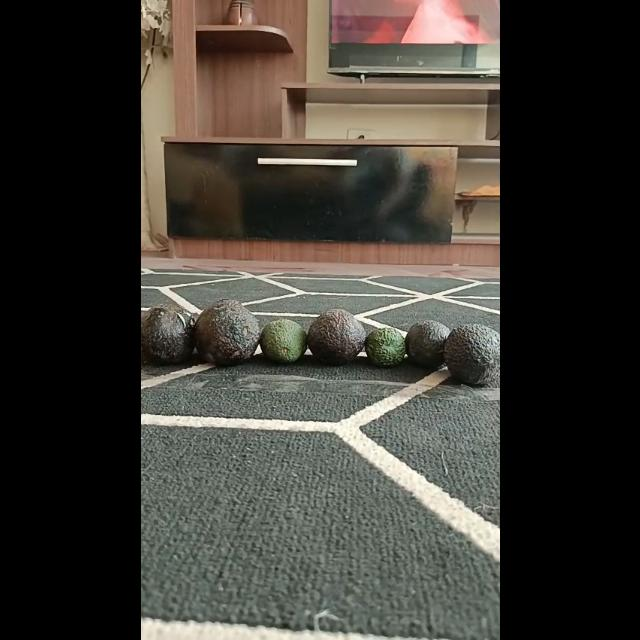Primera: (192, 299, 260, 365), (306, 308, 366, 364), (444, 324, 498, 386), (140, 302, 194, 363)
Segunda: (404, 319, 450, 366), (258, 318, 306, 362)
Tercera: (364, 327, 406, 367)
